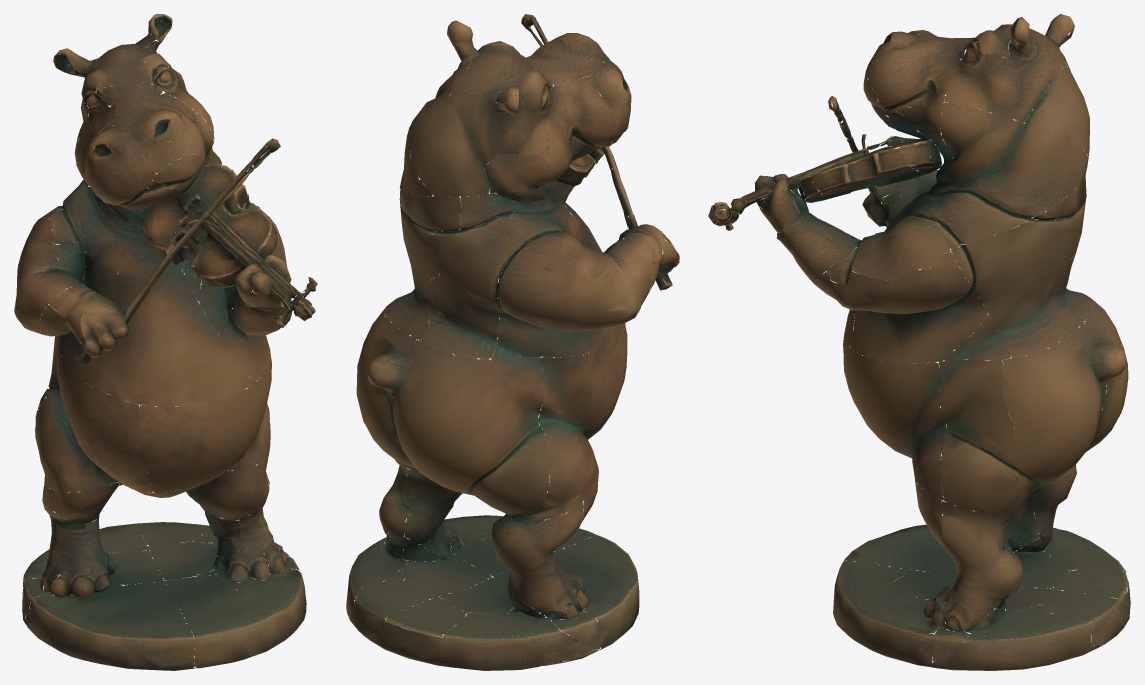
Rendered from h_clock_hippo.glb.
3 renders of one model, left to right at view 1: azimuth 30°, elevation 25°; view 2: azimuth 150°, elevation 25°; view 3: azimuth 270°, elevation 25°, orthographic. The views are drawn at different scales.
Visible parts, largest first — view 1: tripo_node_803f888b-3f07-4e1a-a965-ed7d0f24320c; view 2: tripo_node_803f888b-3f07-4e1a-a965-ed7d0f24320c; view 3: tripo_node_803f888b-3f07-4e1a-a965-ed7d0f24320c.
Part boxes in pixels (x1,y1,x2,y2): tripo_node_803f888b-3f07-4e1a-a965-ed7d0f24320c: (14,14,317,670); tripo_node_803f888b-3f07-4e1a-a965-ed7d0f24320c: (346,14,679,670); tripo_node_803f888b-3f07-4e1a-a965-ed7d0f24320c: (708,14,1130,670).
Size of the model in its own units: 0.4851 by 0.9996 by 0.6356.
1 material, 1 textured.
